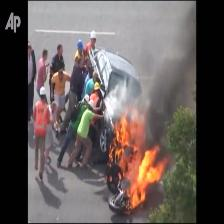fire: (110, 110, 176, 215)
smoke: (124, 3, 195, 109)
